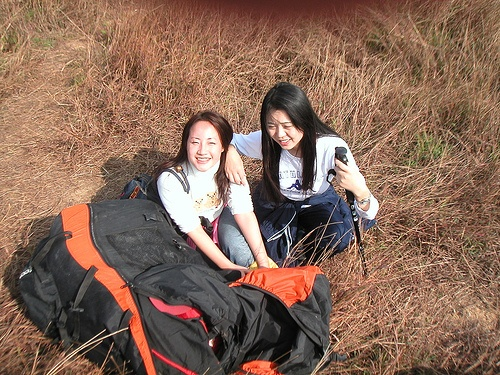head: (260, 81, 314, 152), (180, 108, 230, 179)
person: (229, 79, 374, 265), (155, 110, 273, 273)
